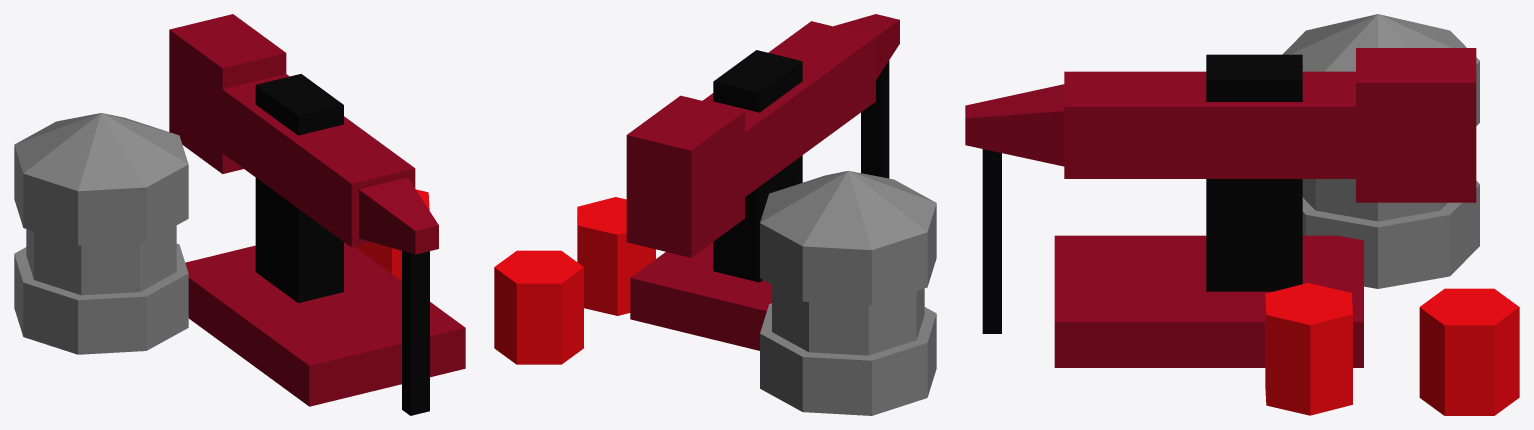
File: derrick.glb
3 views of the same model, side by side, from view 1: azimuth 30°, elevation 25°; view 2: azimuth 150°, elevation 25°; view 3: azimuth 270°, elevation 25° (orthographic). The views are drawn at different scales.
Visible parts, largest first — view 1: Cylinder.014; view 2: Cylinder.014; view 3: Cylinder.014.
Part boxes in pixels (x1,y1,x2,y2): Cylinder.014: [14, 14, 465, 415]; Cylinder.014: [494, 14, 936, 415]; Cylinder.014: [965, 14, 1519, 415].
Size of the model in its own units: 241 by 143 by 272.
